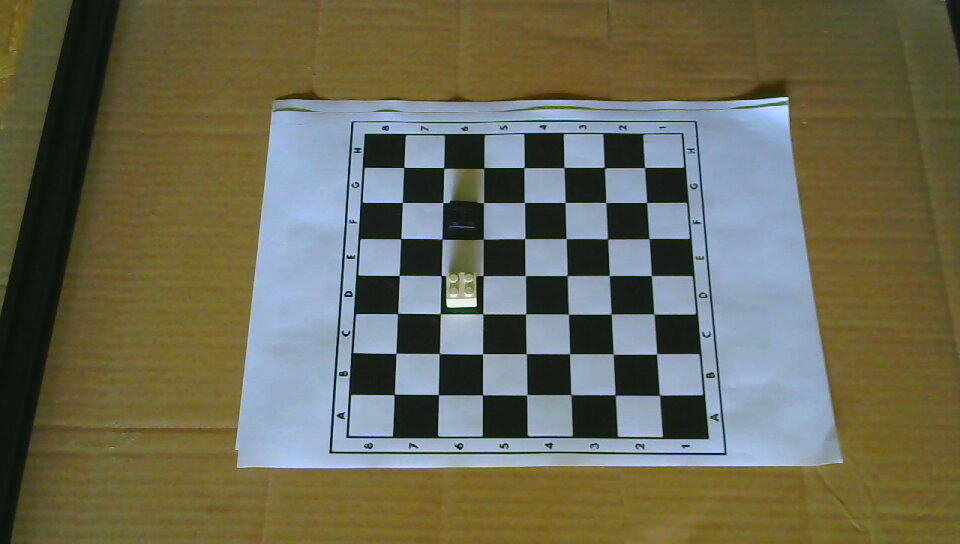bp: (445, 197, 481, 238)
wp: (442, 269, 479, 310)
